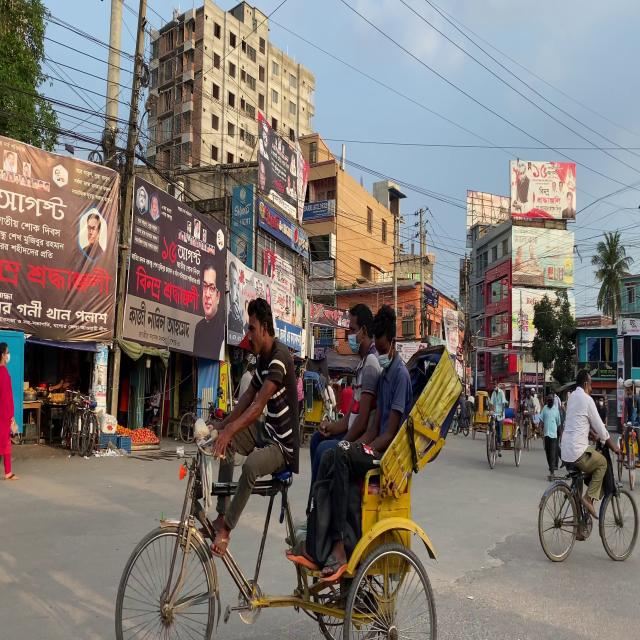rickshaw: (108, 339, 486, 633), (485, 366, 524, 470)
